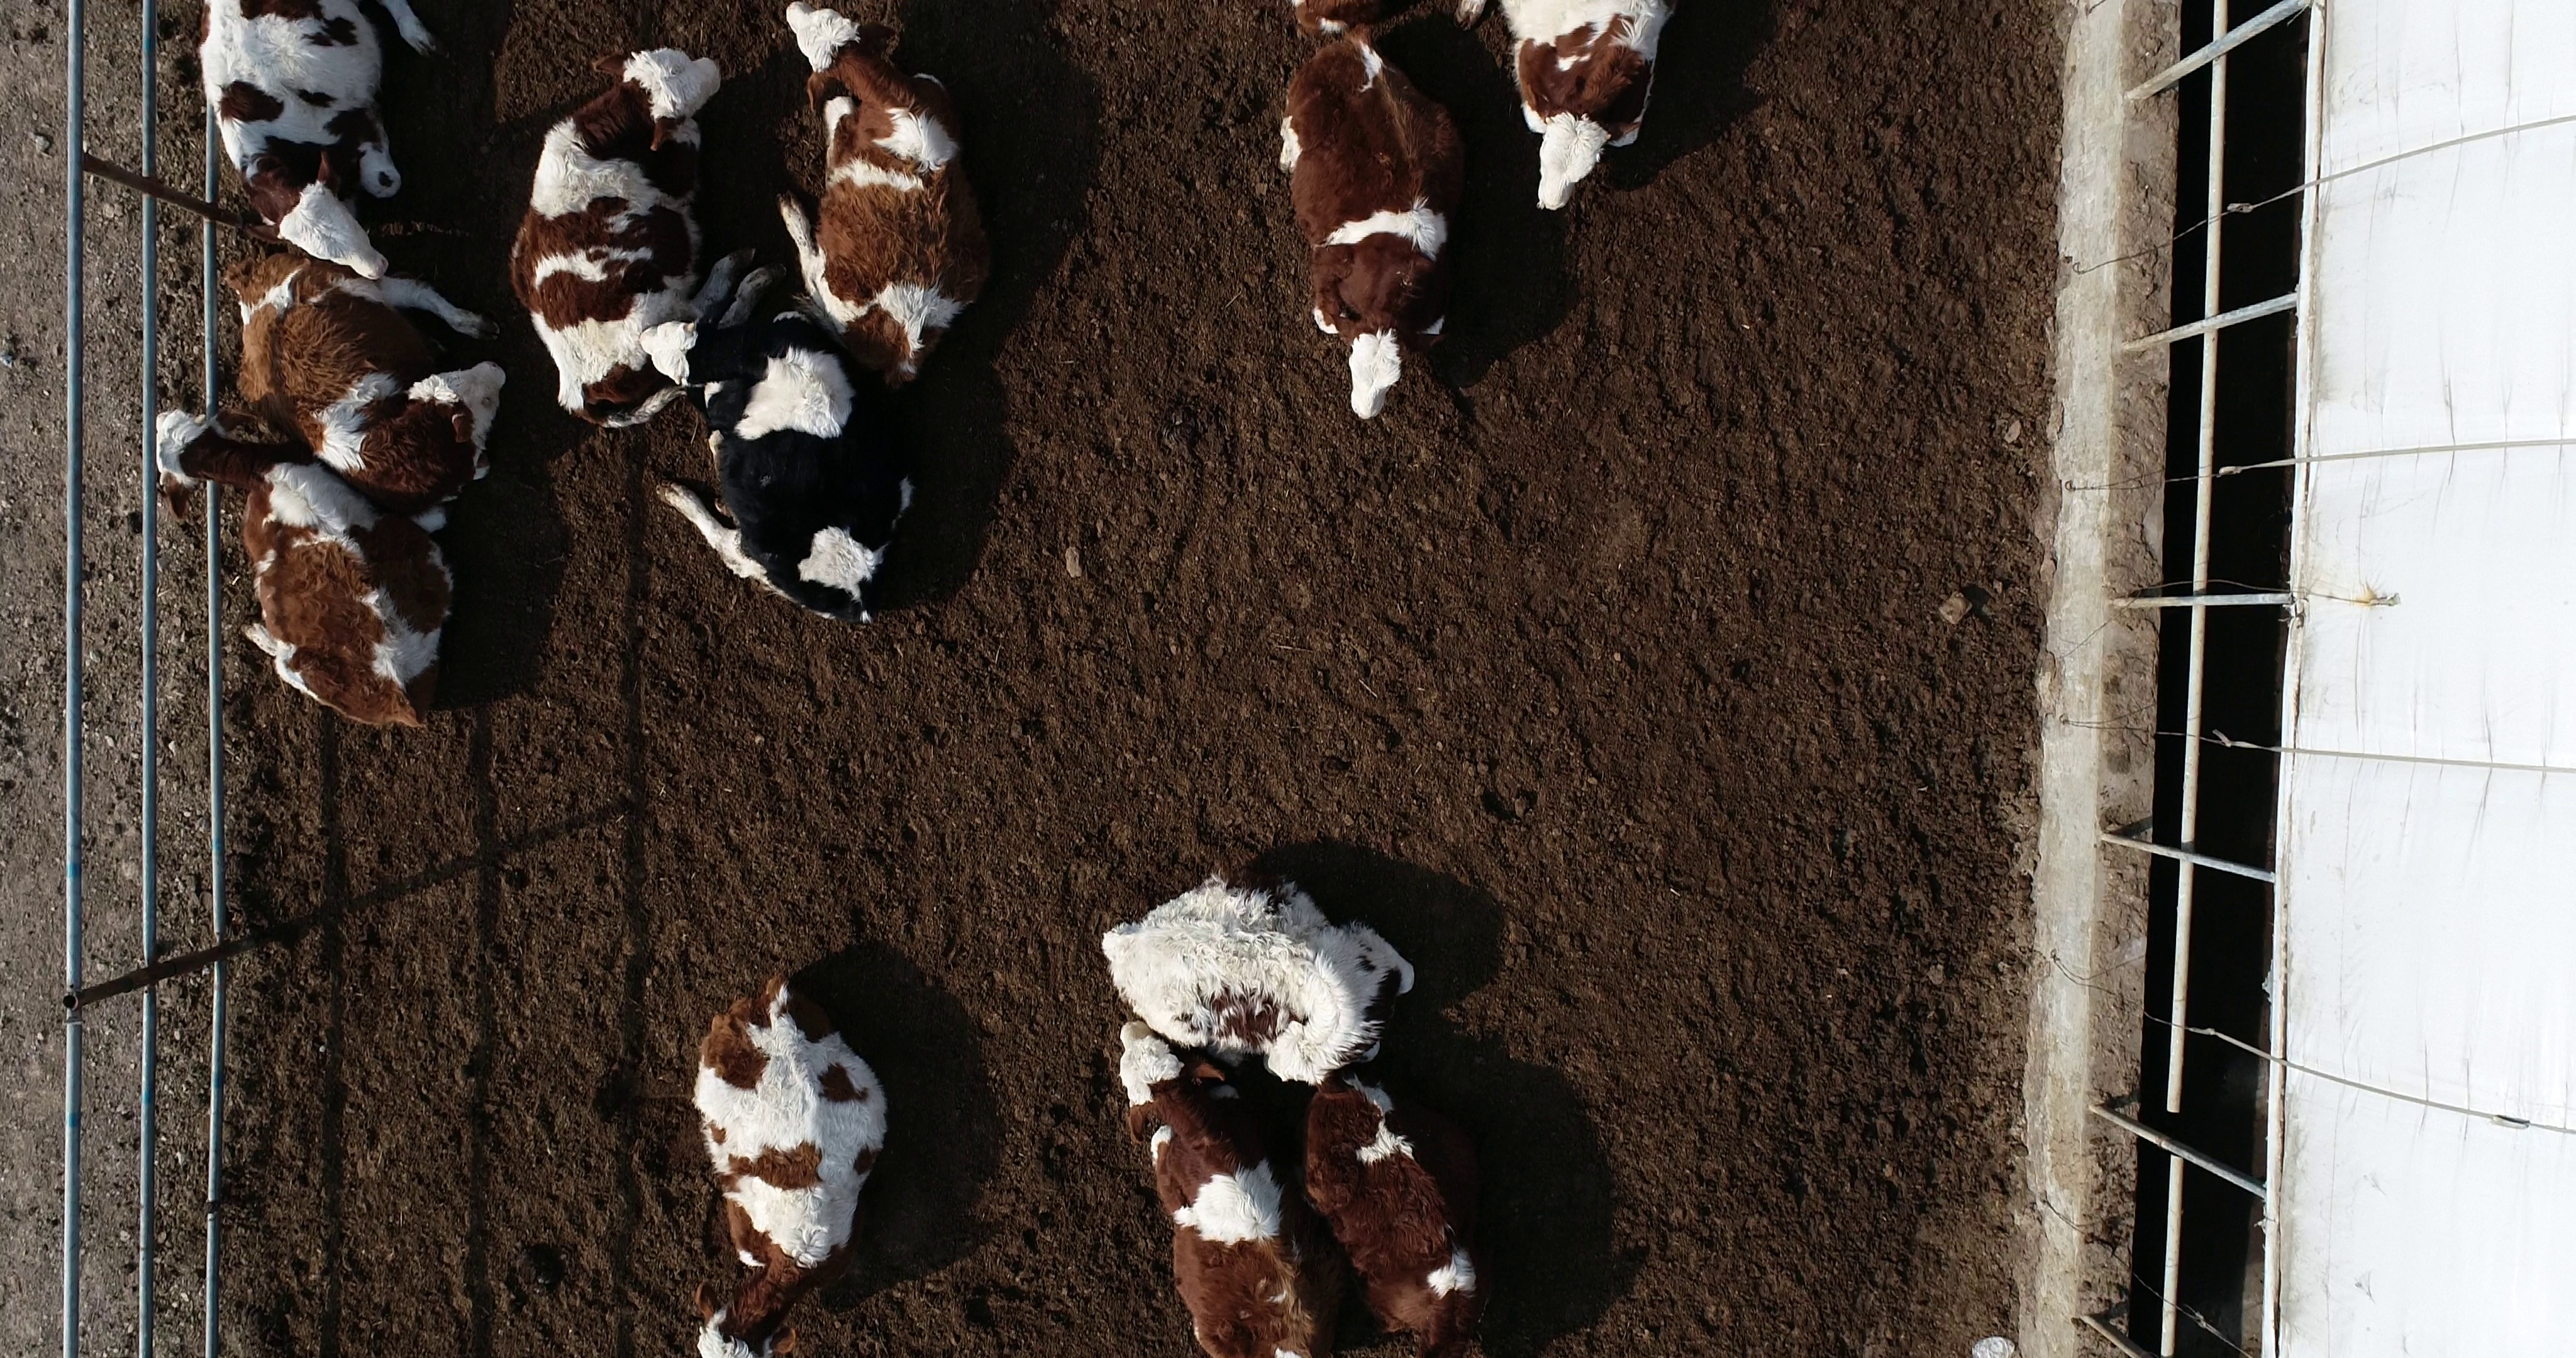cattle: (497, 37, 773, 443), (140, 400, 467, 739), (632, 266, 927, 636), (750, 2, 1000, 400), (651, 966, 901, 1358), (1274, 12, 1470, 424), (1102, 1016, 1336, 1358), (1073, 867, 1424, 1089)
